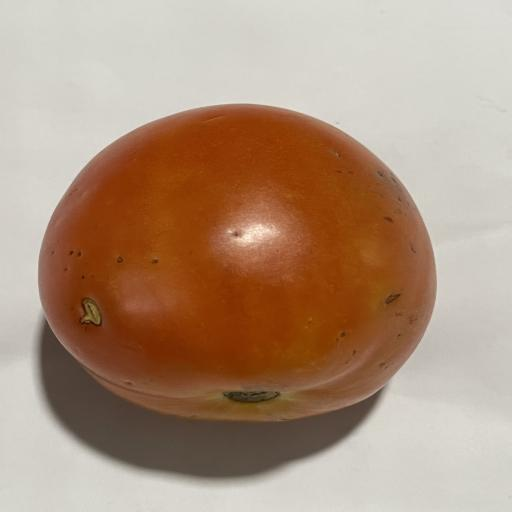ripe: (39, 104, 436, 421)
